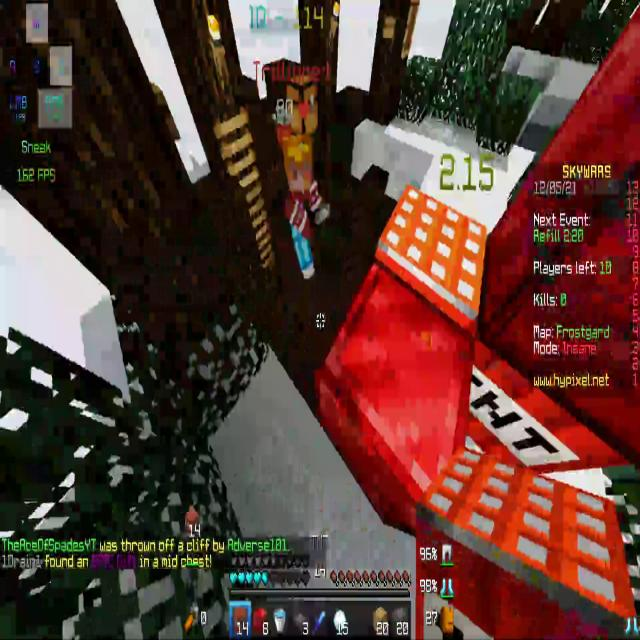Player: (269, 118, 329, 298)
